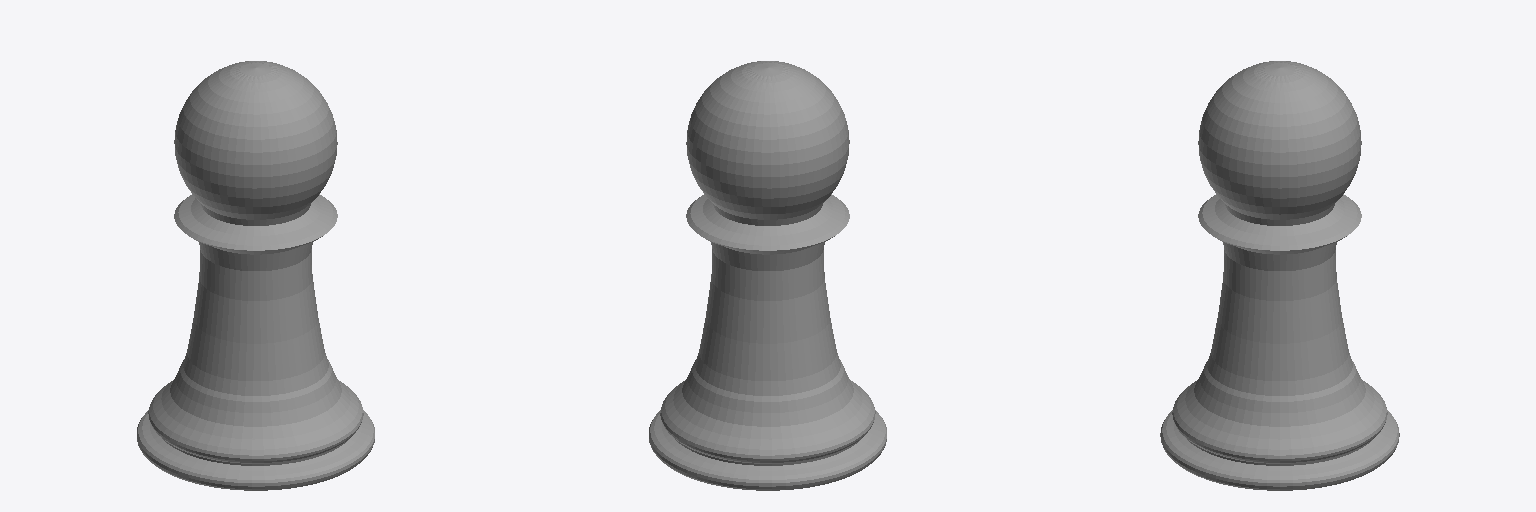
File: pawn.obj
The picture shows the model from 3 angles: view 1: azimuth 30°, elevation 25°; view 2: azimuth 150°, elevation 25°; view 3: azimuth 270°, elevation 25°; orthographic projection.
Parts seen in each view (by area): view 1: Torus; view 2: Torus; view 3: Torus.
Boxes of the visible parts, x1,y1,x2,y2 form: Torus: [137, 61, 374, 490]; Torus: [649, 61, 886, 490]; Torus: [1160, 61, 1399, 490].
Size of the model in its own units: 1.43 by 2.49 by 1.43.